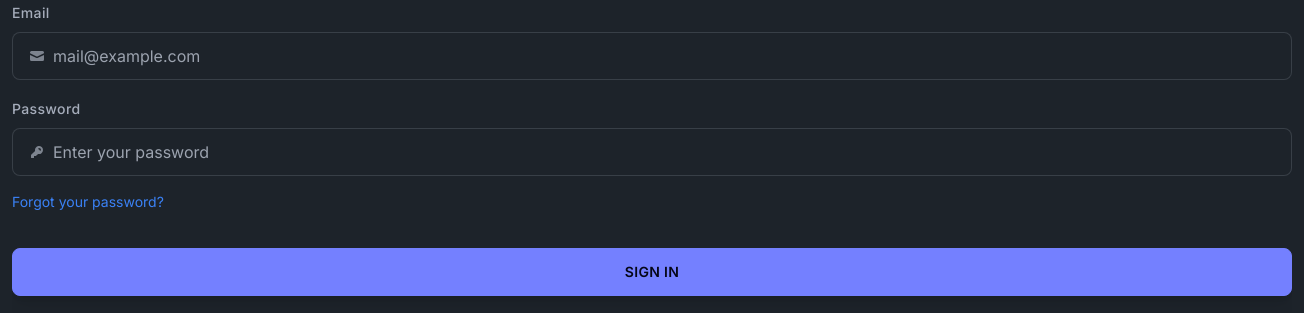
Test: CredentialsForm › shows TOTP input when second factor is required
Type "test@example.com" into the field with placeholder "mail@example.com" at (664, 56), box top-left (53, 44), bottom-right (1275, 68)
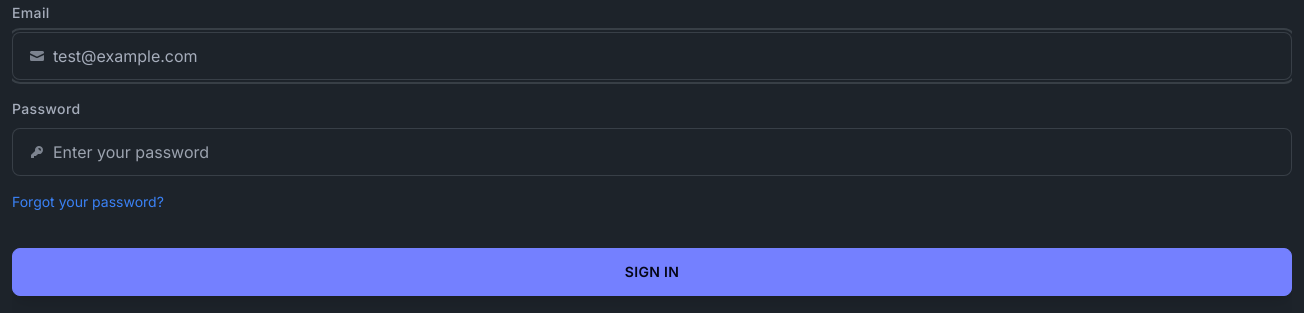
Type "testpassword" into the password field with placeholder "Enter your password" at (664, 152), box top-left (53, 140), bottom-right (1275, 164)
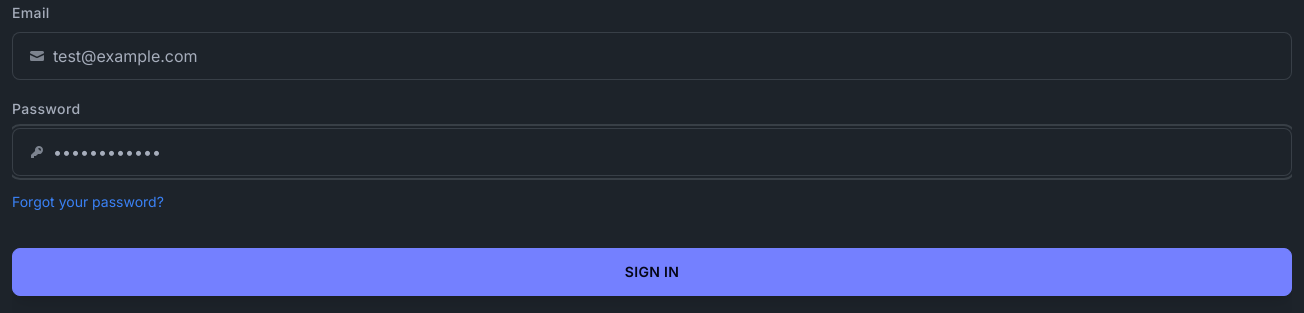
Click the button "Sign in" at (652, 272), box top-left (12, 248), bottom-right (1292, 296)
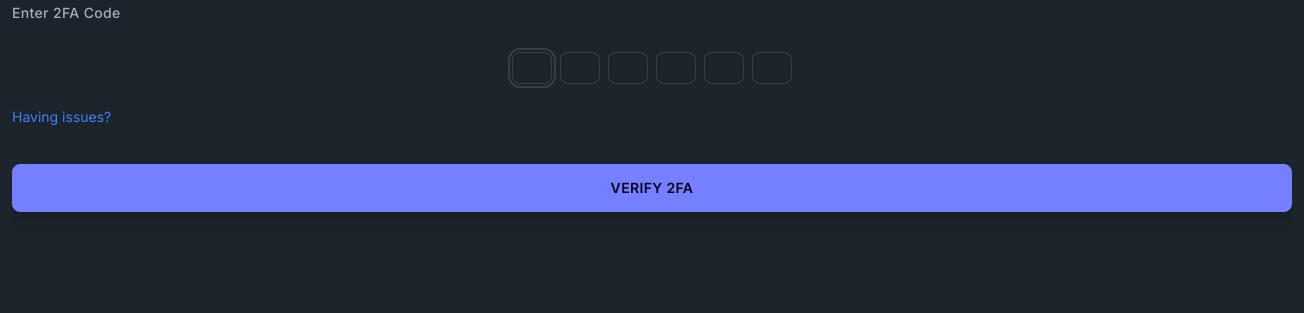
Check: the text "Enter 2FA Code" is shown, box top-left (12, 4), bottom-right (121, 21)
